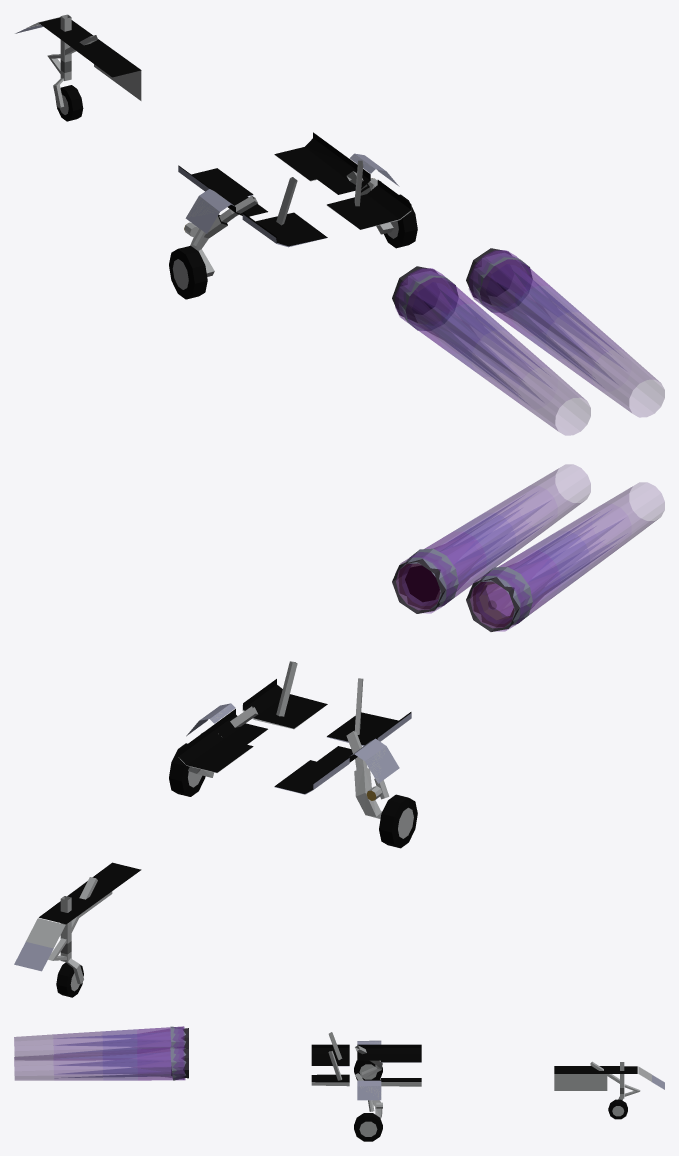
File: Gear_T2CCVNG.obj
3 renders of one model, top to bottom at view 1: azimuth 30°, elevation 25°; view 2: azimuth 150°, elevation 25°; view 3: azimuth 270°, elevation 25°, orthographic. The views are drawn at different scales.
Visible parts, largest first — view 1: ShapeIndexedFaceSet.057_ShapeIndexedFaceSet.058, ShapeIndexedFaceSet.051_ShapeIndexedFaceSet.052, ShapeIndexedFaceSet.061_ShapeIndexedFaceSet.062, ShapeIndexedFaceSet.055_ShapeIndexedFaceSet.056, ShapeIndexedFaceSet.065_ShapeIndexedFaceSet.066, ShapeIndexedFaceSet.058_ShapeIndexedFaceSet.059, ShapeIndexedFaceSet.052_ShapeIndexedFaceSet.053, ShapeIndexedFaceSet.060_ShapeIndexedFaceSet.061, ShapeIndexedFaceSet.054_ShapeIndexedFaceSet.055, ShapeIndexedFaceSet.070_ShapeIndexedFaceSet.071, ShapeIndexedFaceSet.091_ShapeIndexedFaceSet.092, ShapeIndexedFaceSet.059_ShapeIndexedFaceSet.060 (+12 smaller); view 2: ShapeIndexedFaceSet.051_ShapeIndexedFaceSet.052, ShapeIndexedFaceSet.057_ShapeIndexedFaceSet.058, ShapeIndexedFaceSet.070_ShapeIndexedFaceSet.071, ShapeIndexedFaceSet.045_ShapeIndexedFaceSet.046, ShapeIndexedFaceSet.065_ShapeIndexedFaceSet.066, ShapeIndexedFaceSet.054_ShapeIndexedFaceSet.055, ShapeIndexedFaceSet.091_ShapeIndexedFaceSet.092, ShapeIndexedFaceSet.060_ShapeIndexedFaceSet.061, ShapeIndexedFaceSet.061_ShapeIndexedFaceSet.062, ShapeIndexedFaceSet.055_ShapeIndexedFaceSet.056, ShapeIndexedFaceSet.030_ShapeIndexedFaceSet.031, ShapeIndexedFaceSet.058_ShapeIndexedFaceSet.059 (+13 smaller); view 3: ShapeIndexedFaceSet.057_ShapeIndexedFaceSet.058, ShapeIndexedFaceSet.058_ShapeIndexedFaceSet.059, ShapeIndexedFaceSet.061_ShapeIndexedFaceSet.062, ShapeIndexedFaceSet.055_ShapeIndexedFaceSet.056, ShapeIndexedFaceSet.051_ShapeIndexedFaceSet.052, ShapeIndexedFaceSet.059_ShapeIndexedFaceSet.060, ShapeIndexedFaceSet.065_ShapeIndexedFaceSet.066, ShapeIndexedFaceSet.070_ShapeIndexedFaceSet.071, ShapeIndexedFaceSet.060_ShapeIndexedFaceSet.061, ShapeIndexedFaceSet.054_ShapeIndexedFaceSet.055, ShapeIndexedFaceSet.091_ShapeIndexedFaceSet.092, ShapeIndexedFaceSet.052_ShapeIndexedFaceSet.053 (+15 smaller).
Part boxes in pixels (left/top/right/bottom): ShapeIndexedFaceSet.057_ShapeIndexedFaceSet.058: left=492, top=268, right=624, bottom=383; ShapeIndexedFaceSet.051_ShapeIndexedFaceSet.052: left=418, top=286, right=550, bottom=403; ShapeIndexedFaceSet.061_ShapeIndexedFaceSet.062: left=546, top=312, right=631, bottom=391; ShapeIndexedFaceSet.055_ShapeIndexedFaceSet.056: left=472, top=330, right=557, bottom=409; ShapeIndexedFaceSet.065_ShapeIndexedFaceSet.066: left=243, top=180, right=411, bottom=246; ShapeIndexedFaceSet.058_ShapeIndexedFaceSet.059: left=469, top=250, right=560, bottom=335; ShapeIndexedFaceSet.052_ShapeIndexedFaceSet.053: left=395, top=268, right=486, bottom=353; ShapeIndexedFaceSet.060_ShapeIndexedFaceSet.061: left=592, top=350, right=664, bottom=417; ShapeIndexedFaceSet.054_ShapeIndexedFaceSet.055: left=518, top=368, right=590, bottom=435; ShapeIndexedFaceSet.070_ShapeIndexedFaceSet.071: left=39, top=17, right=370, bottom=216; ShapeIndexedFaceSet.091_ShapeIndexedFaceSet.092: left=178, top=132, right=349, bottom=200; ShapeIndexedFaceSet.059_ShapeIndexedFaceSet.060: left=513, top=286, right=589, bottom=358; ShapeIndexedFaceSet.051_ShapeIndexedFaceSet.052: left=476, top=511, right=624, bottom=623; ShapeIndexedFaceSet.057_ShapeIndexedFaceSet.058: left=402, top=492, right=550, bottom=605; ShapeIndexedFaceSet.070_ShapeIndexedFaceSet.071: left=39, top=709, right=357, bottom=924; ShapeIndexedFaceSet.045_ShapeIndexedFaceSet.046: left=396, top=563, right=514, bottom=627; ShapeIndexedFaceSet.065_ShapeIndexedFaceSet.066: left=243, top=679, right=411, bottom=745; ShapeIndexedFaceSet.054_ShapeIndexedFaceSet.055: left=592, top=482, right=664, bottom=546; ShapeIndexedFaceSet.091_ShapeIndexedFaceSet.092: left=178, top=724, right=349, bottom=793; ShapeIndexedFaceSet.060_ShapeIndexedFaceSet.061: left=518, top=464, right=590, bottom=528; ShapeIndexedFaceSet.061_ShapeIndexedFaceSet.062: left=472, top=486, right=557, bottom=560; ShapeIndexedFaceSet.055_ShapeIndexedFaceSet.056: left=546, top=504, right=631, bottom=578; ShapeIndexedFaceSet.030_ShapeIndexedFaceSet.031: left=396, top=548, right=532, bottom=628; ShapeIndexedFaceSet.058_ShapeIndexedFaceSet.059: left=395, top=532, right=486, bottom=613; ShapeIndexedFaceSet.057_ShapeIndexedFaceSet.058: left=56, top=1052, right=170, bottom=1077; ShapeIndexedFaceSet.058_ShapeIndexedFaceSet.059: left=137, top=1046, right=185, bottom=1080; ShapeIndexedFaceSet.061_ShapeIndexedFaceSet.062: left=53, top=1051, right=103, bottom=1080; ShapeIndexedFaceSet.055_ShapeIndexedFaceSet.056: left=53, top=1031, right=102, bottom=1060; ShapeIndexedFaceSet.051_ShapeIndexedFaceSet.052: left=55, top=1032, right=170, bottom=1053; ShapeIndexedFaceSet.059_ShapeIndexedFaceSet.060: left=102, top=1049, right=137, bottom=1080; ShapeIndexedFaceSet.065_ShapeIndexedFaceSet.066: left=311, top=1044, right=349, bottom=1082; ShapeIndexedFaceSet.070_ShapeIndexedFaceSet.071: left=357, top=1044, right=637, bottom=1080; ShapeIndexedFaceSet.060_ShapeIndexedFaceSet.061: left=14, top=1054, right=53, bottom=1080; ShapeIndexedFaceSet.054_ShapeIndexedFaceSet.055: left=14, top=1034, right=53, bottom=1060; ShapeIndexedFaceSet.091_ShapeIndexedFaceSet.092: left=381, top=1044, right=421, bottom=1081; ShapeIndexedFaceSet.052_ShapeIndexedFaceSet.053: left=137, top=1026, right=184, bottom=1049.
Bounding box in the file's own units: 32.9 × 20.02 × 147.
